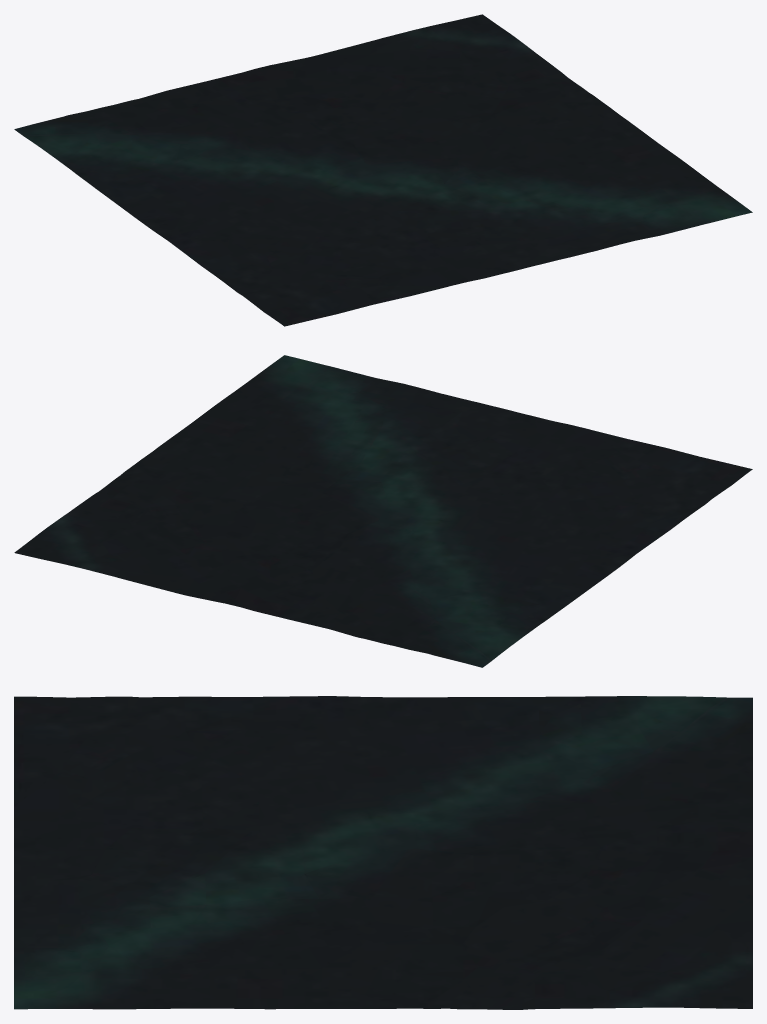
3 renders of one model, top to bottom at view 1: azimuth 30°, elevation 25°; view 2: azimuth 150°, elevation 25°; view 3: azimuth 270°, elevation 25°, orthographic. The views are drawn at different scales.
Size of the model in its own units: 52.22 by 0.3106 by 52.22.
Materials: 2 (2 with a texture image).
